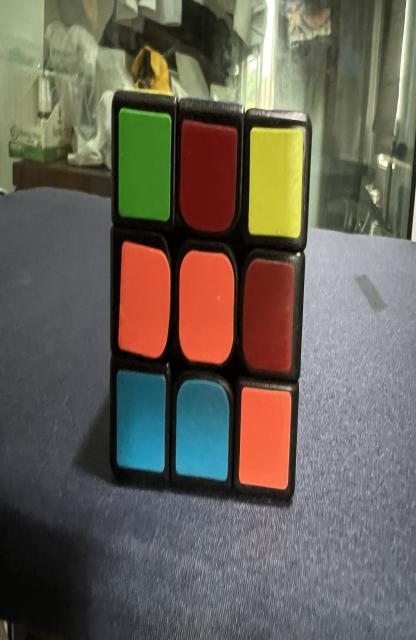Blue: (176, 380, 229, 482), (116, 370, 166, 472)
Green: (119, 108, 171, 222)
Orange: (179, 250, 235, 365), (118, 242, 171, 358), (239, 387, 291, 490)
Red: (180, 120, 237, 232), (243, 258, 295, 372)
Yellow: (249, 127, 303, 238)
